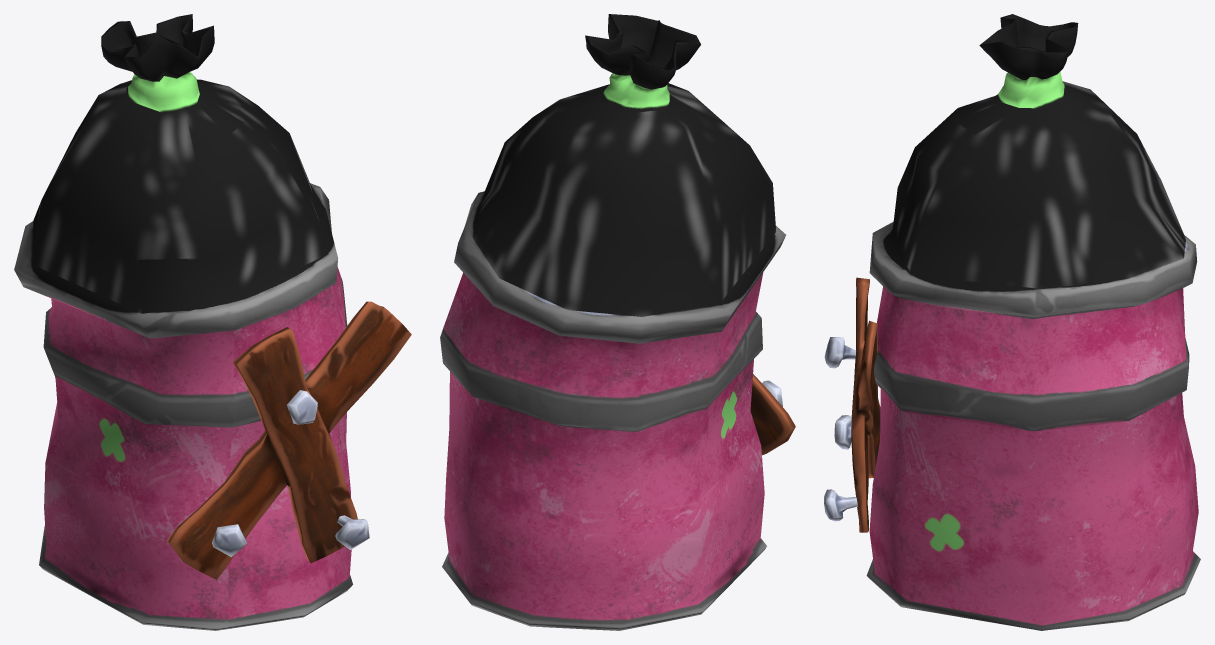
File: Trash_Again_Again.fbx
The picture shows the model from 3 angles, left to right: view 1: azimuth 30°, elevation 25°; view 2: azimuth 150°, elevation 25°; view 3: azimuth 270°, elevation 25°; orthographic projection. The views are drawn at different scales.
Parts seen in each view (by area): view 1: Trash_LOD0; view 2: Trash_LOD0; view 3: Trash_LOD0.
Boxes of the visible parts, left/top/right/bottom form: Trash_LOD0: left=14, top=14, right=411, bottom=630; Trash_LOD0: left=440, top=14, right=795, bottom=630; Trash_LOD0: left=824, top=14, right=1200, bottom=630.
Size of what is drawn, in the model's own units: 214 by 371 by 241.
